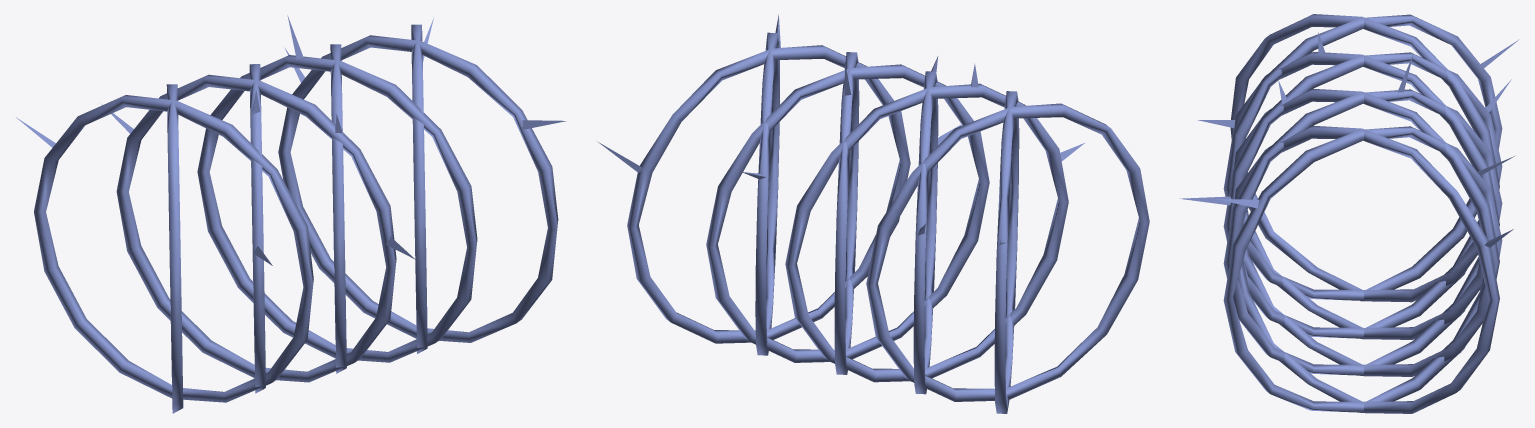
File: Riot_Police_01_Barbed_wire.fbx
3 views of the same model, side by side, from view 1: azimuth 30°, elevation 25°; view 2: azimuth 150°, elevation 25°; view 3: azimuth 270°, elevation 25° (orthographic). The views are drawn at different scales.
Parts seen in each view (by area): view 1: Riot_Police_01_Barbed_wire; view 2: Riot_Police_01_Barbed_wire; view 3: Riot_Police_01_Barbed_wire.
Part boxes in pixels (bbox=[...]): Riot_Police_01_Barbed_wire: bbox=[16, 15, 566, 413]; Riot_Police_01_Barbed_wire: bbox=[597, 14, 1149, 413]; Riot_Police_01_Barbed_wire: bbox=[1179, 14, 1519, 413].
Bounding box in the file's own units: 1.71 × 1.3 × 1.3.
